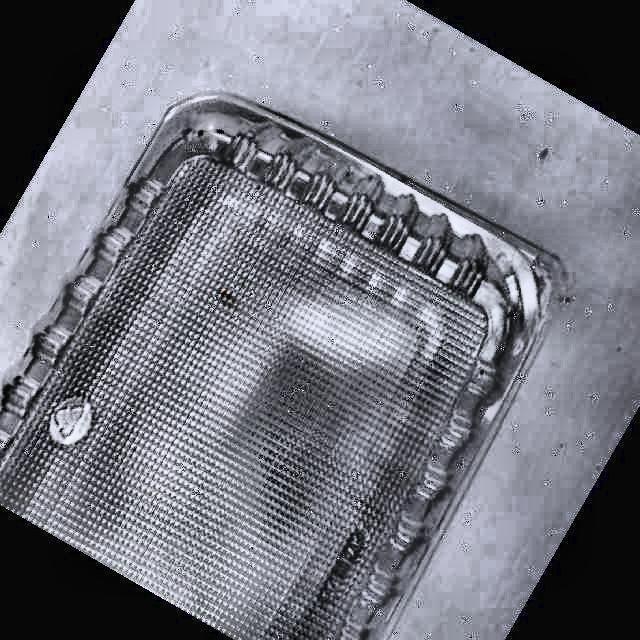plastic: (0, 95, 571, 640)
